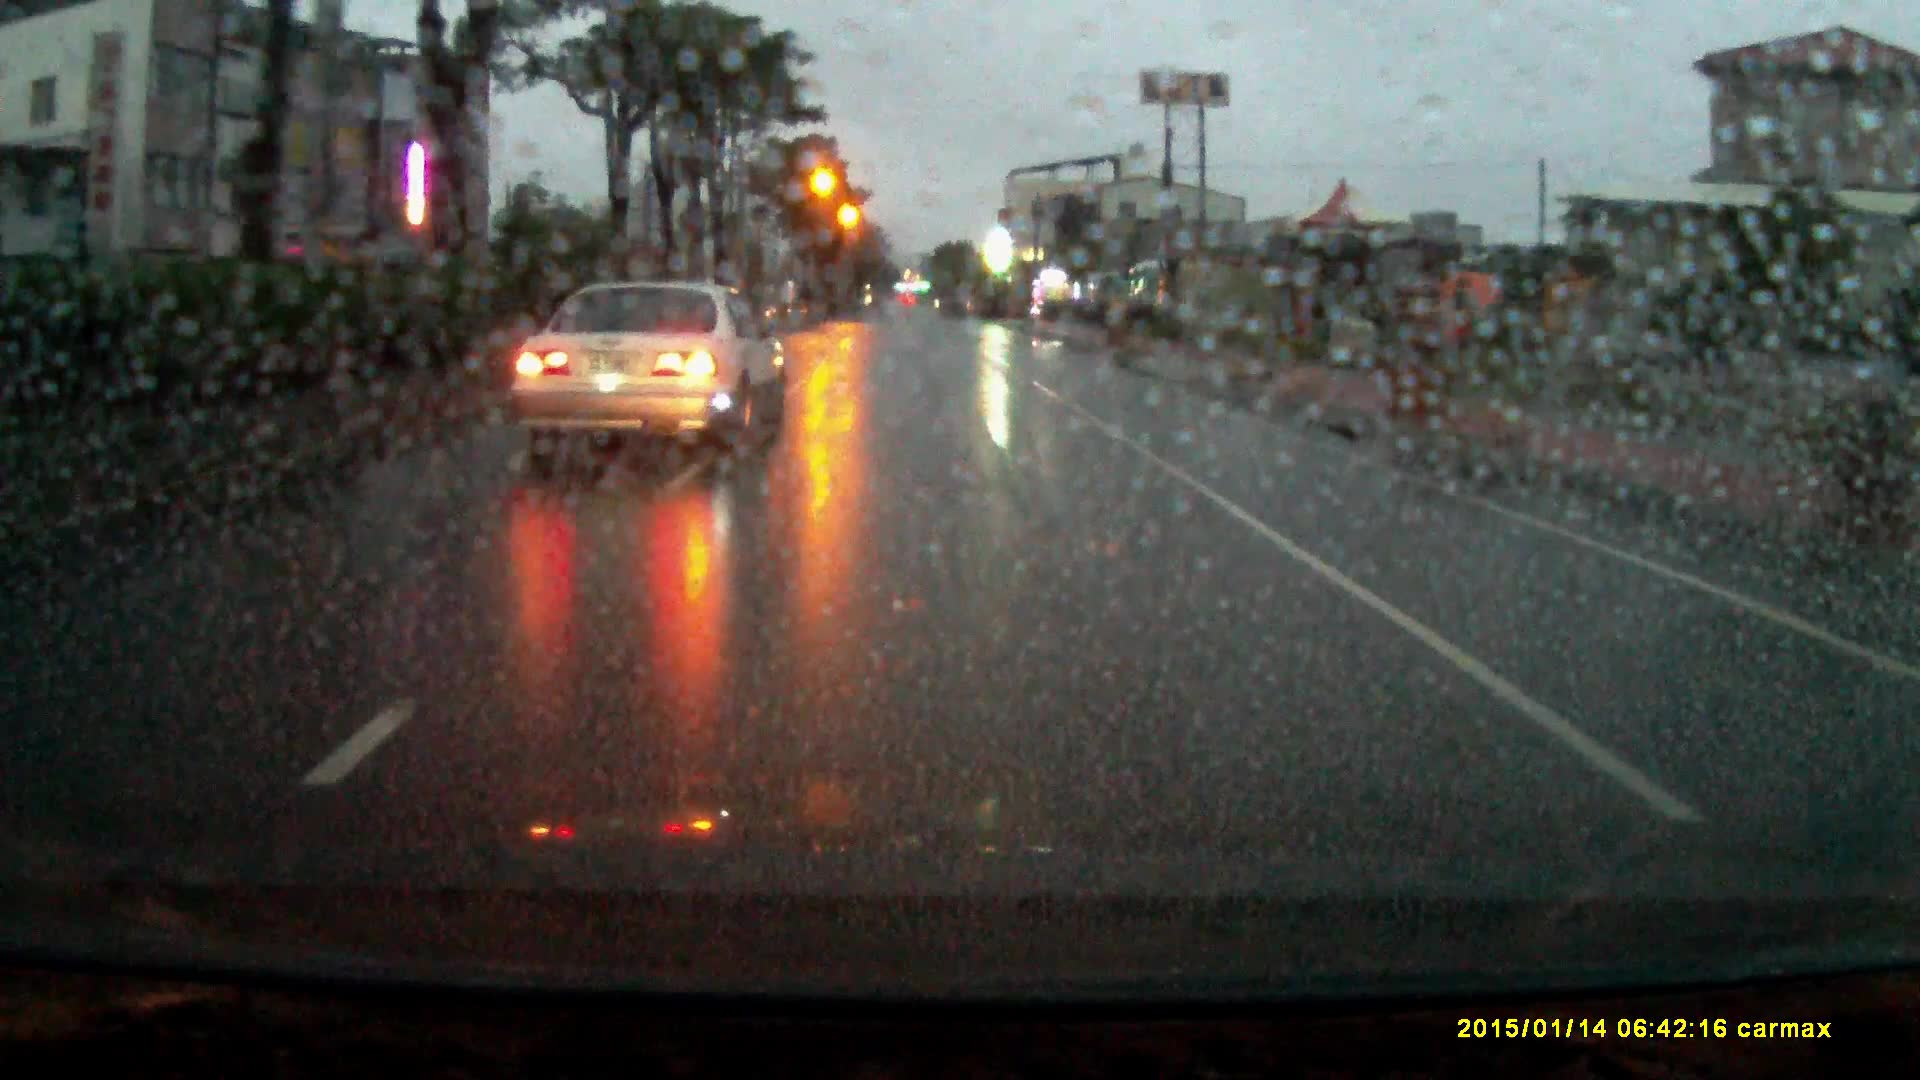pedestrian: (1425, 274, 1509, 448)
vehicle: (506, 287, 792, 475)
